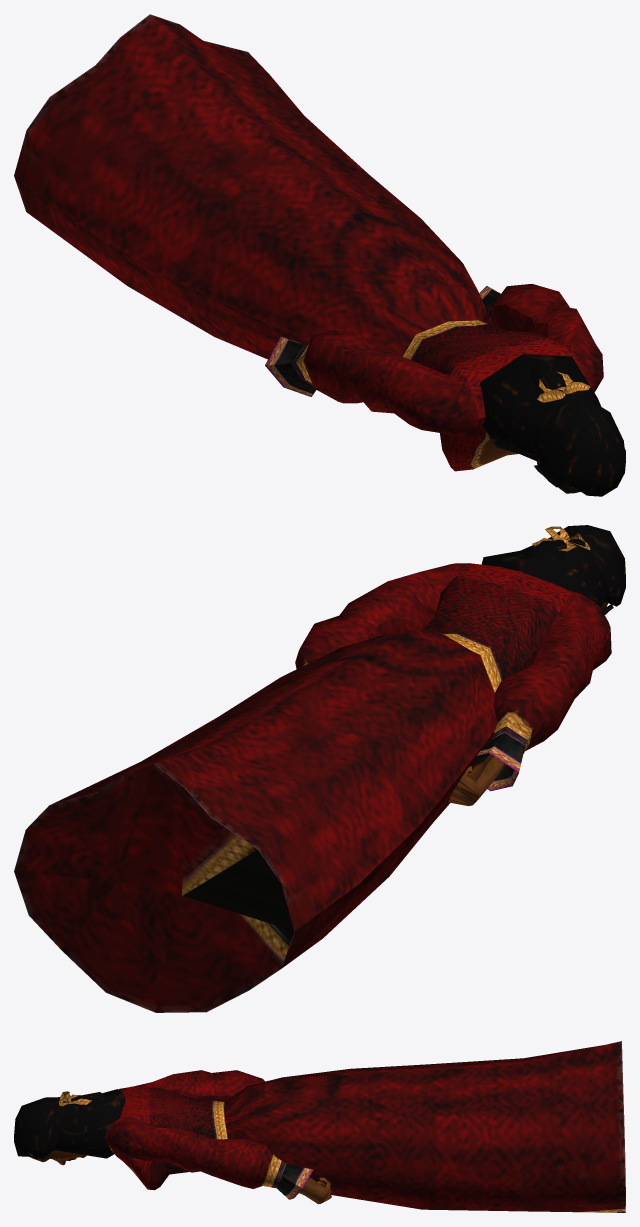
File: YoungWoman.fbx
The picture shows the model from 3 angles, top to bottom: view 1: azimuth 30°, elevation 25°; view 2: azimuth 150°, elevation 25°; view 3: azimuth 270°, elevation 25°; orthographic projection. The views are drawn at different scales.
Visible parts, largest first — view 1: objHand_right_hi1; view 2: objHand_right_hi1; view 3: objHand_right_hi1.
Boxes of the visible parts, box(x1,y1,x2,y2) form: objHand_right_hi1: box(14, 14, 625, 496); objHand_right_hi1: box(14, 525, 625, 1012); objHand_right_hi1: box(14, 1041, 625, 1212).
Bounding box in the file's own units: 0.2757 × 0.2311 × 0.7857.
